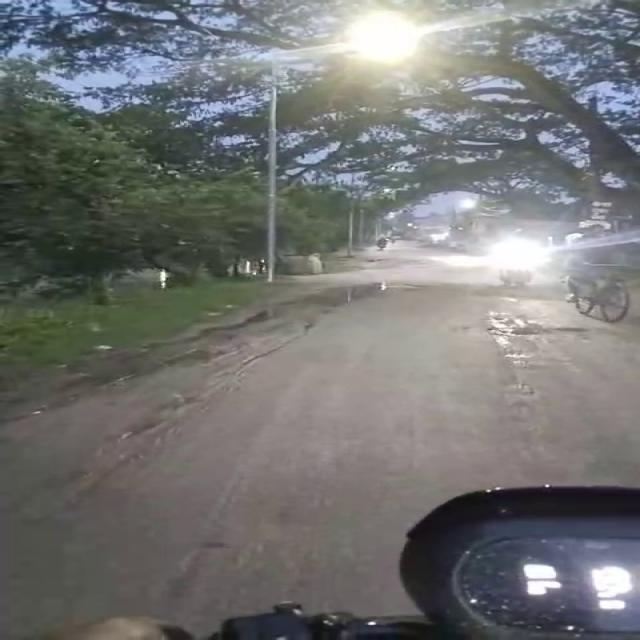pothole: (475, 320, 595, 340), (496, 348, 538, 362), (483, 307, 522, 320)
